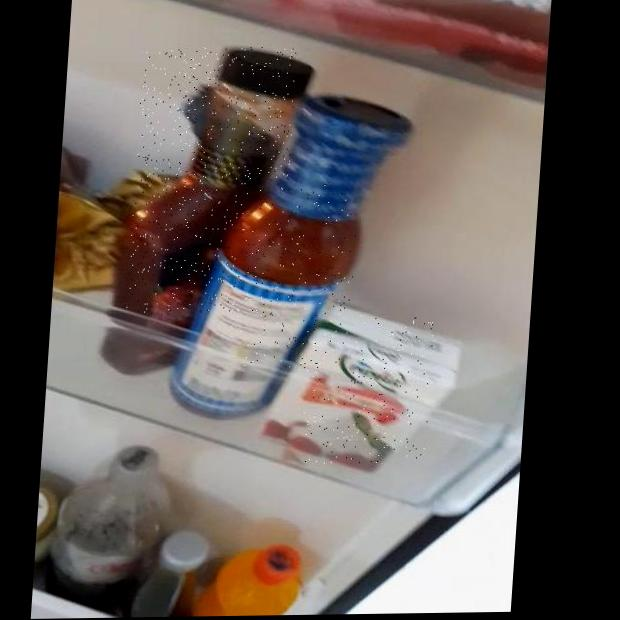cream: (301, 314, 436, 464)
sauce: (126, 47, 298, 313), (228, 180, 359, 369)
